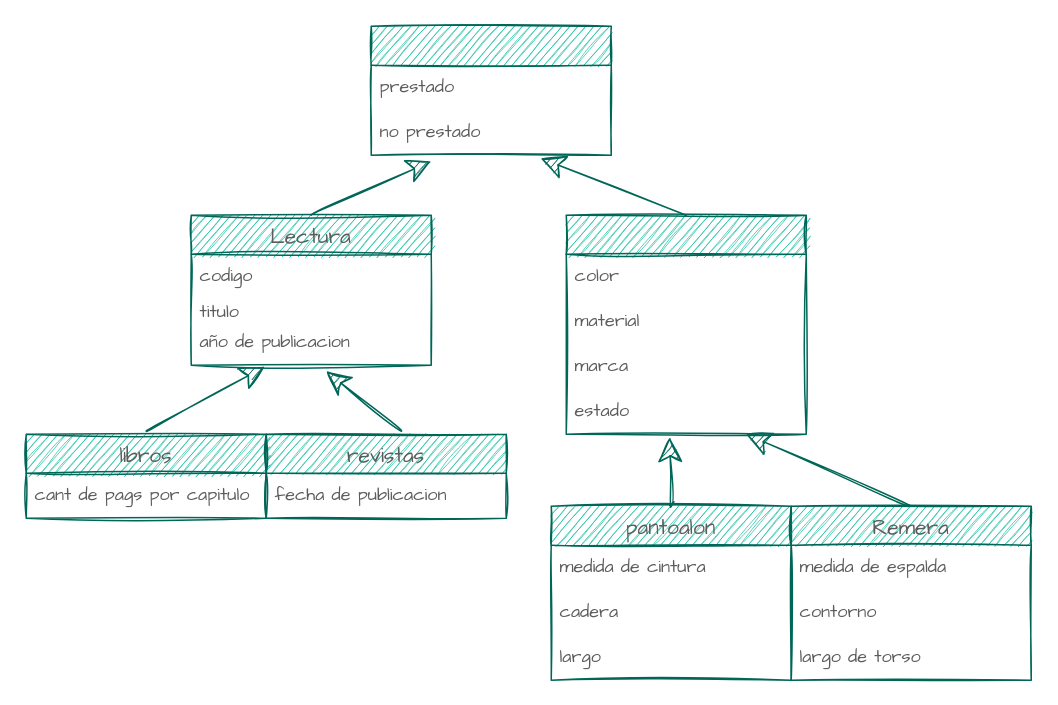
Image size: 1058x705. Some labels were removed from this diagram. Here are the shapes that lost their labels. From the top down, the box of each, then its label:
(370, 25, 611, 155): Prestar
(565, 214, 806, 434): Prendas de ropa
